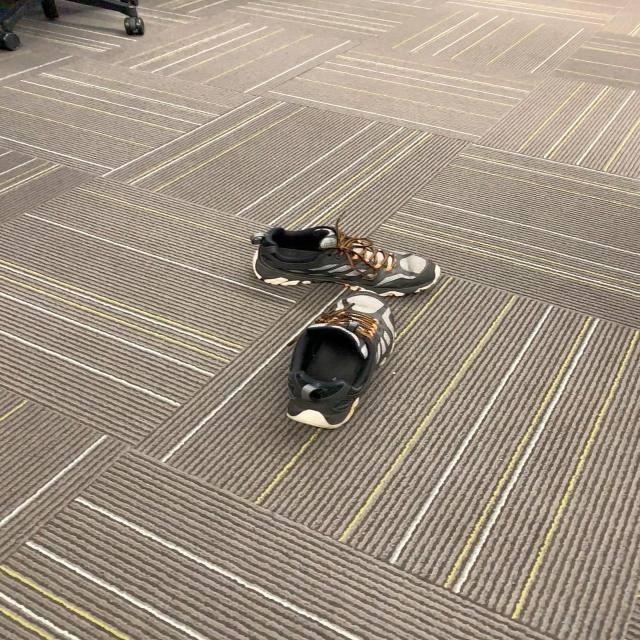shoe: (289, 295, 395, 431), (250, 226, 441, 298)
